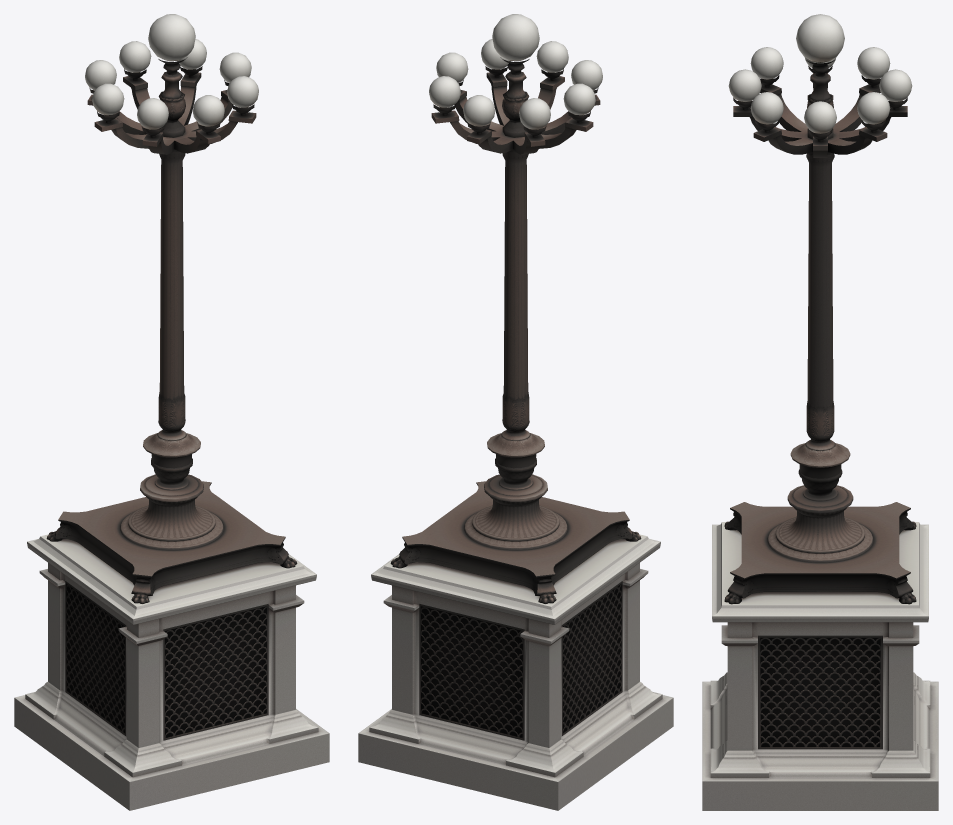
File: LampPost.glb
3 renders of one model, left to right at view 1: azimuth 30°, elevation 25°; view 2: azimuth 150°, elevation 25°; view 3: azimuth 270°, elevation 25°, orthographic. The views are drawn at different scales.
Parts seen in each view (by area): view 1: LampPost_Base, LampPost_Metal, LampPost_Bulbs; view 2: LampPost_Base, LampPost_Metal, LampPost_Bulbs; view 3: LampPost_Base, LampPost_Metal, LampPost_Bulbs.
Boxes of the visible parts, x1,y1,x2,y2 form: LampPost_Base: (14, 534, 329, 810); LampPost_Metal: (46, 57, 297, 603); LampPost_Bulbs: (85, 14, 258, 129); LampPost_Base: (358, 534, 673, 810); LampPost_Metal: (390, 57, 641, 603); LampPost_Bulbs: (429, 14, 602, 129); LampPost_Base: (702, 522, 938, 810); LampPost_Metal: (724, 60, 916, 604); LampPost_Bulbs: (728, 14, 912, 133).
Size of the model in its own units: 16.42 by 57.18 by 16.42.
Materials: 1 (1 with a texture image).
